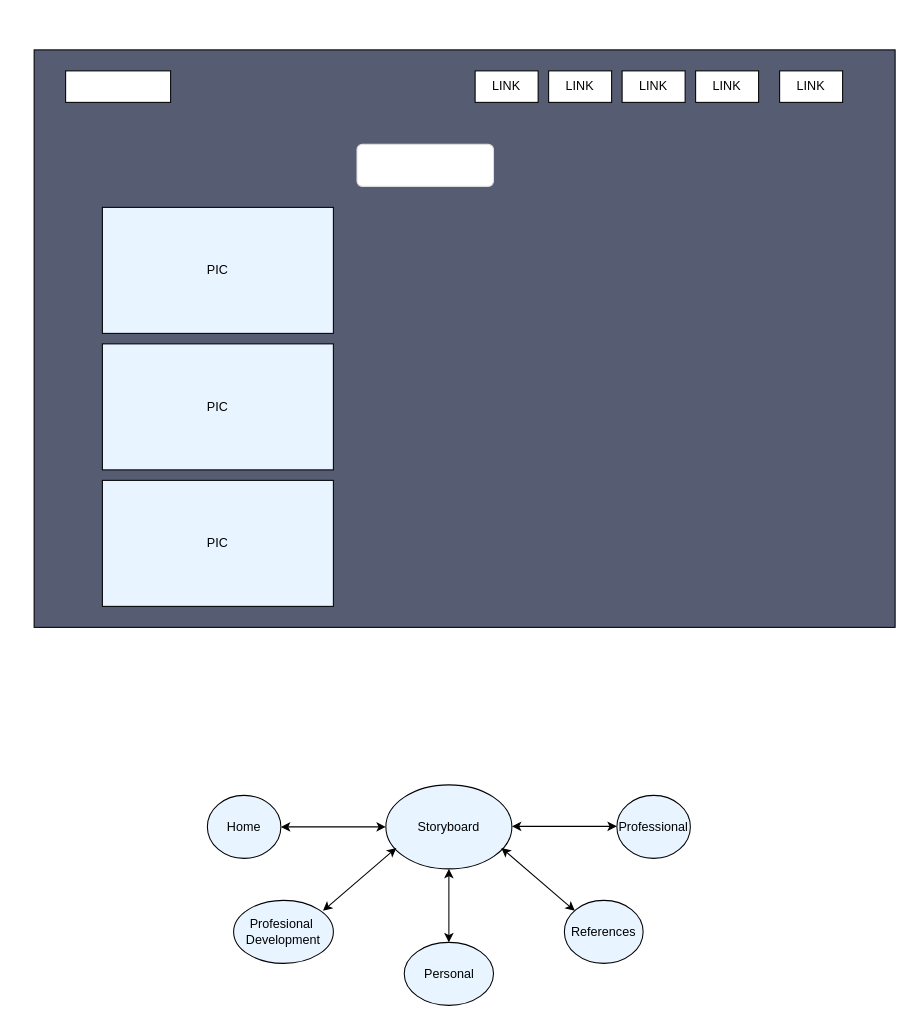
Some shapes in this 913 by 1024 pixel diagram are drawn without their labels. The shapes that lost their labels are listed below. From the top down, each one's box as (x1, y1, x2, y2) in pixels, then its label:
(65, 70, 171, 102): NAME
(356, 143, 494, 186): PAGE TITLE
